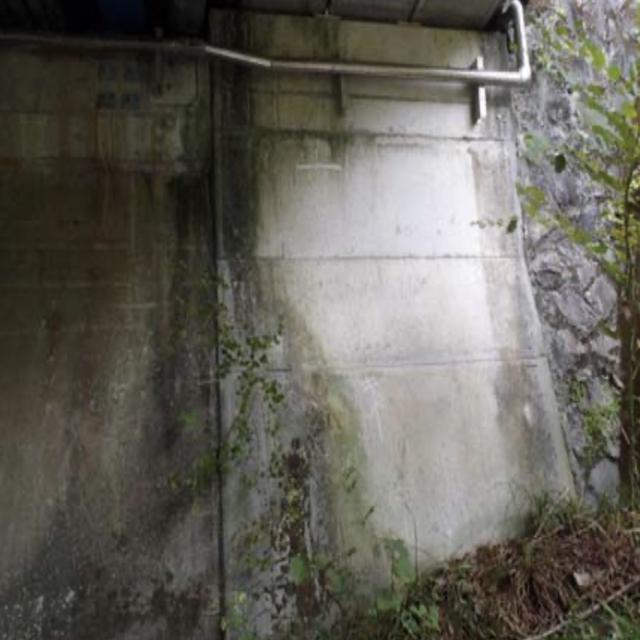leakage: (137, 59, 369, 638)
